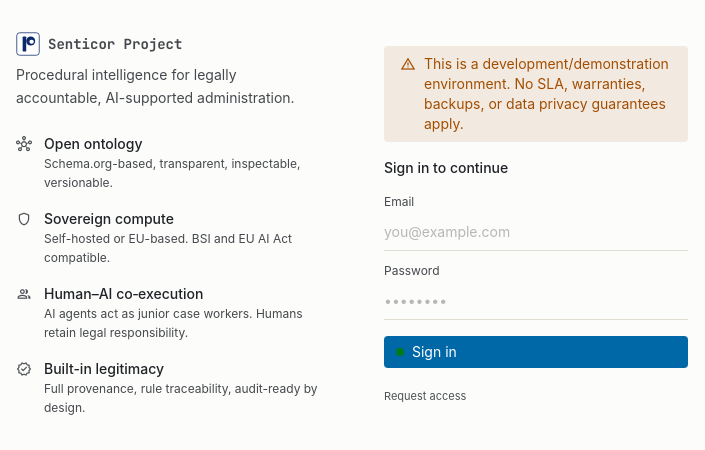
Scenario: LoginPage › displays rate limit error for 429
Type "test@example.com" into the field labelled "Email" at (536, 232), box [384,214,688,251]
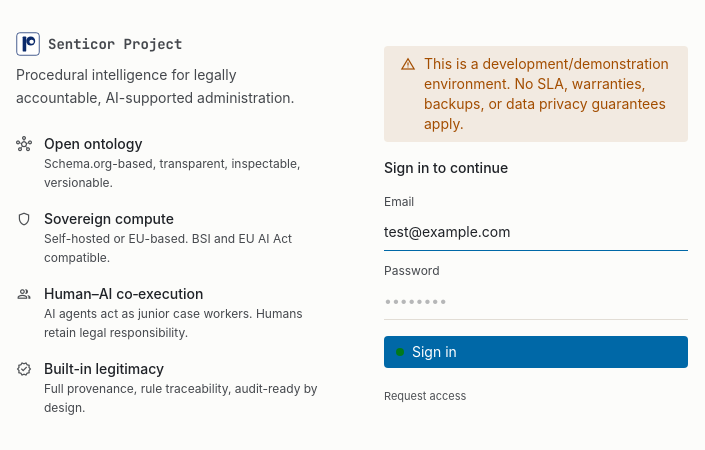
Type "password1" into the password field labelled "Password" at (536, 301), box [384,283,688,320]
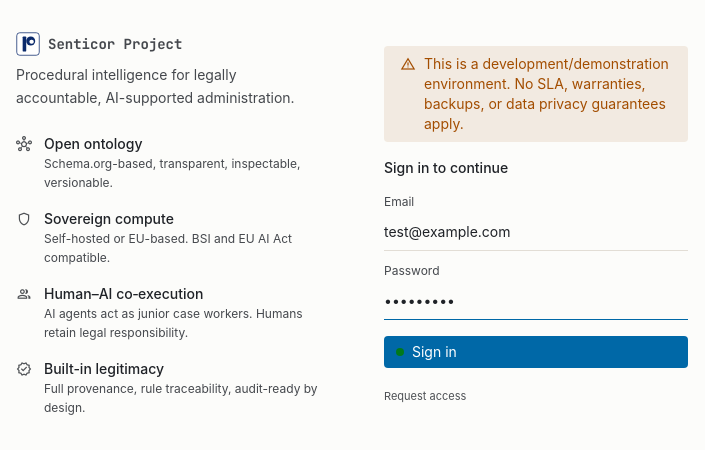
Click the button "Sign in" at (434, 351), box [384,336,688,368]
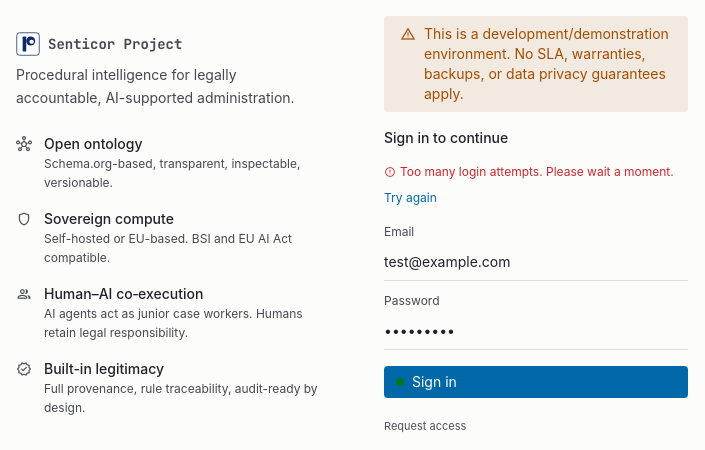
expect the message "Too many login attempts. Please wait a moment." is shown: met, box [400,164,674,180]
